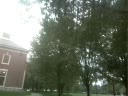window: (3, 54, 10, 64), (1, 70, 5, 87)
